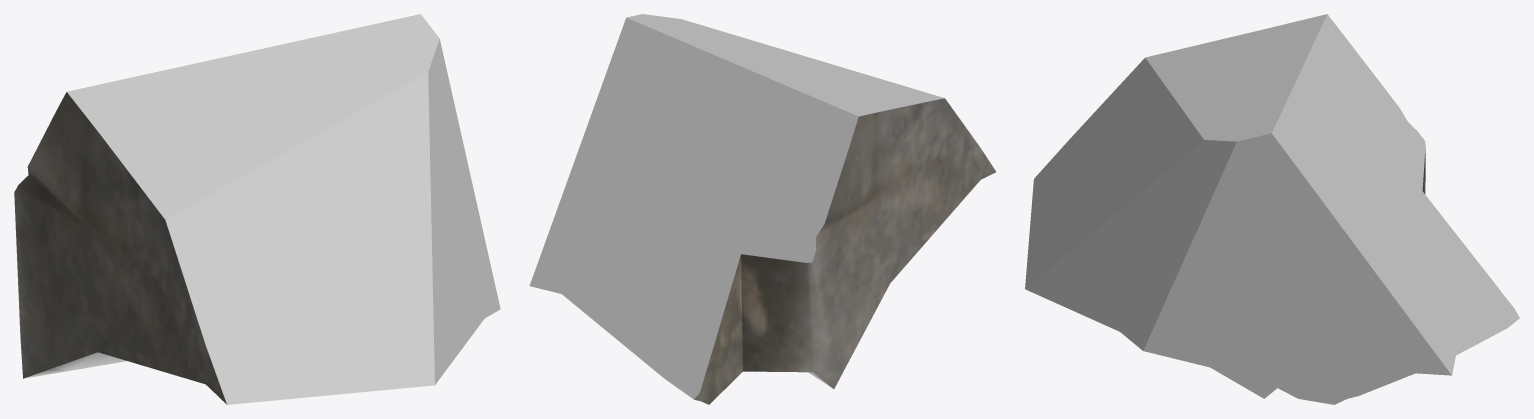
The model's file is ColumnDamage08_19.fbx.
The picture shows the model from 3 angles, left to right: view 1: azimuth 30°, elevation 25°; view 2: azimuth 150°, elevation 25°; view 3: azimuth 270°, elevation 25°; orthographic projection. The views are drawn at different scales.
Parts seen in each view (by area): view 1: ColumnDamage08_DM.019; view 2: ColumnDamage08_DM.019; view 3: ColumnDamage08_DM.019.
Boxes of the visible parts, box(x1,y1,x2,y2) form: ColumnDamage08_DM.019: box(14, 14, 500, 404); ColumnDamage08_DM.019: box(529, 14, 996, 404); ColumnDamage08_DM.019: box(1025, 14, 1519, 404).
Size of the model in its own units: 103 by 94.49 by 144.
